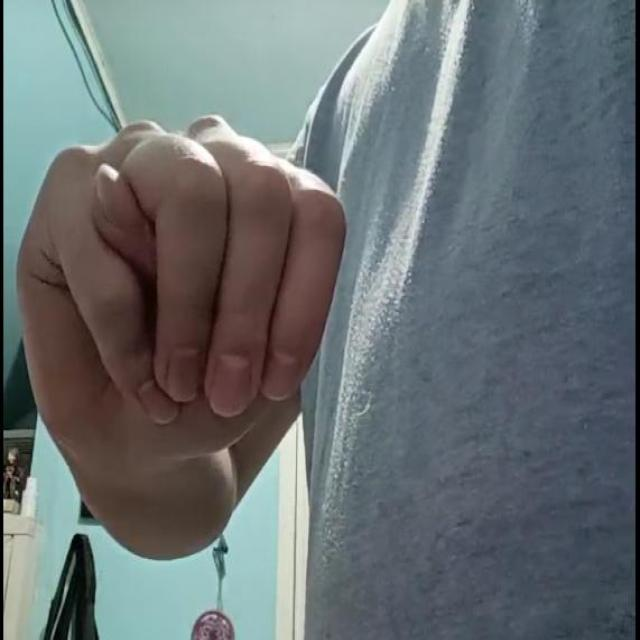M: (17, 114, 350, 462)
